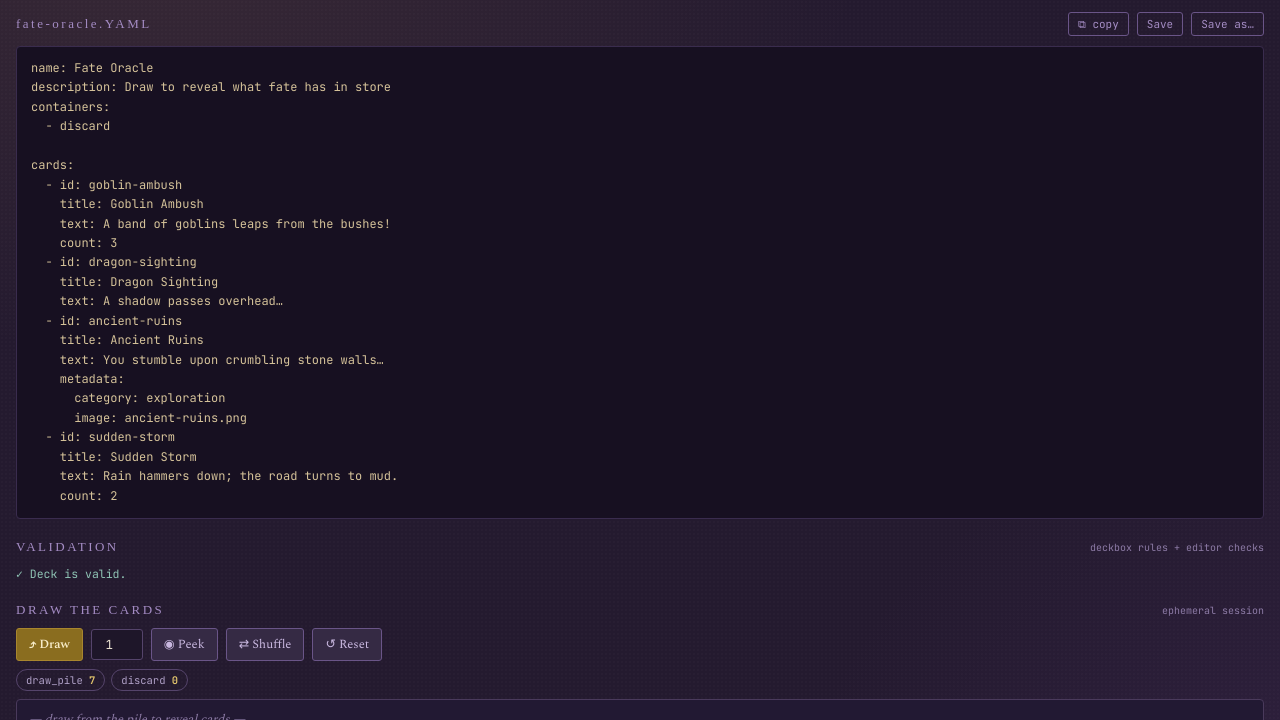
Test case: DRAW THE CARDS › draw with N=99 clamps to the remaining pile, empties it, disables Draw, and shows the hint
Replace the text in the number field with "99": (117, 645) [91,629,143,660]
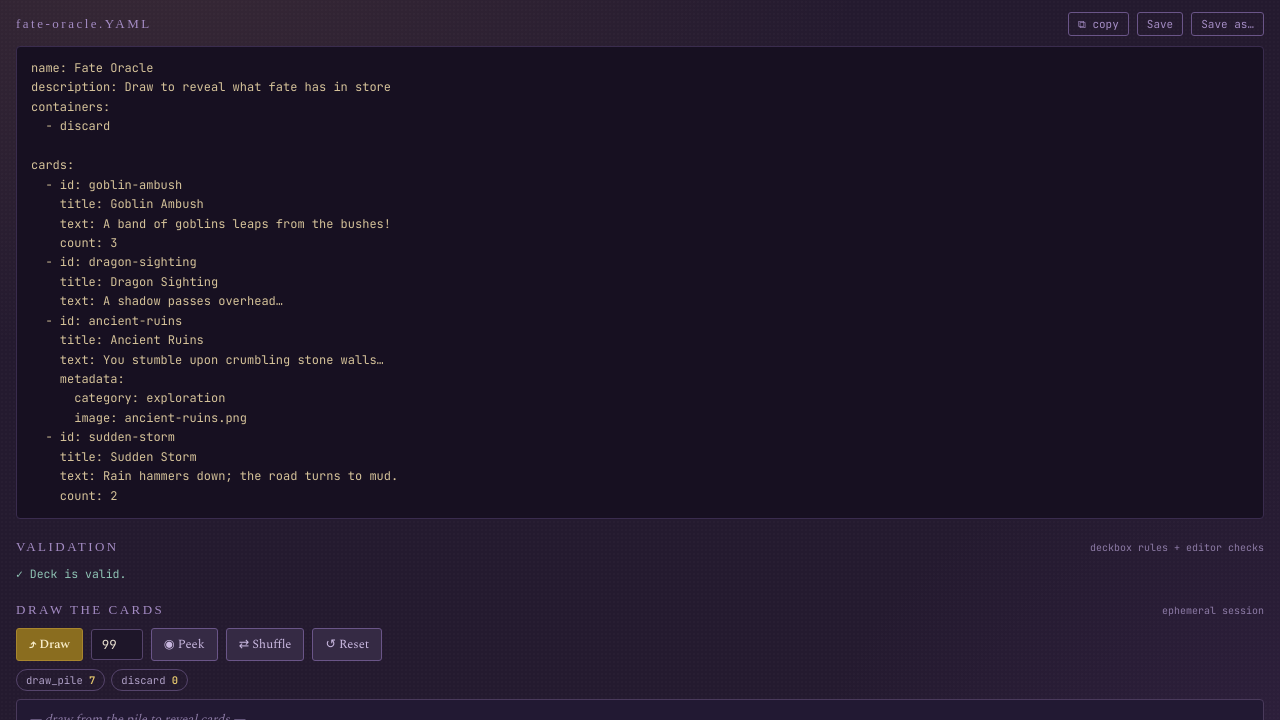
Click the button "⤴ Draw": click(49, 645) [16,628,83,661]
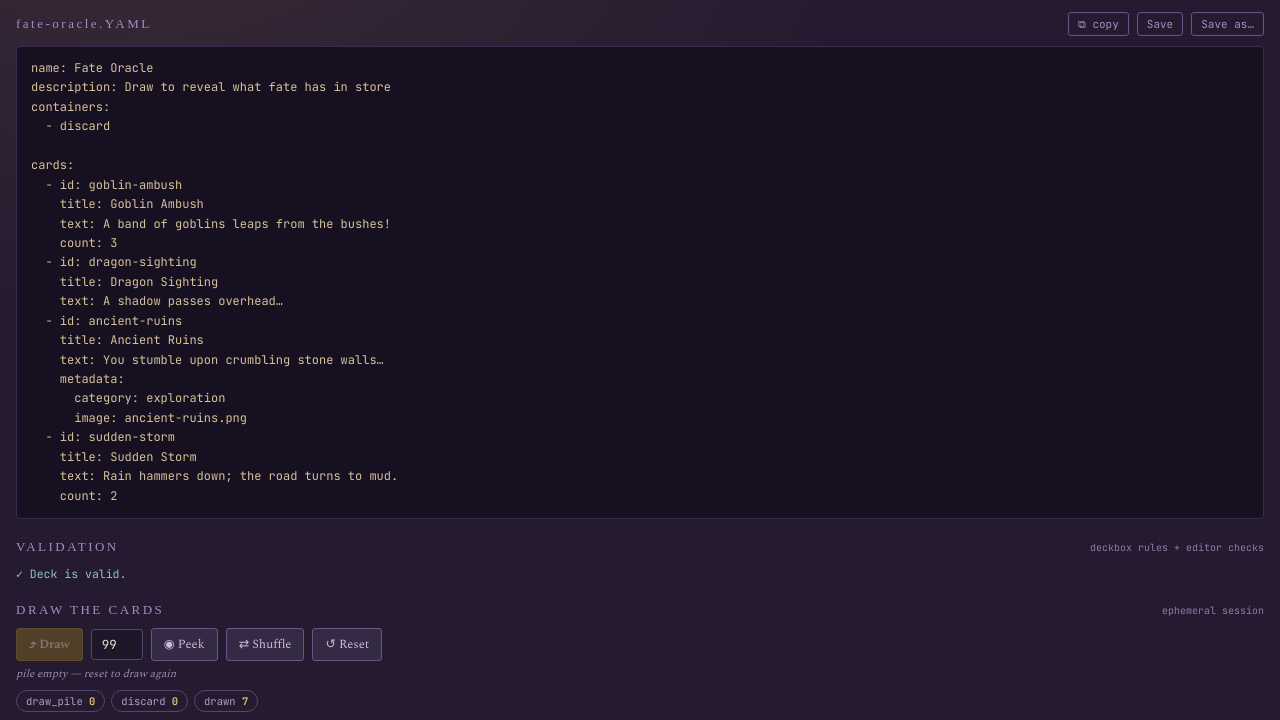
Result: the element with test id "pile-chip-draw_pile" reads "draw_pile 0" at [16,690,105,712]
Result: the element with test id "pile-chip-drawn" reads "drawn 7" at [194,690,258,712]
Result: the button "⤴ Draw" is disabled at [16,628,83,661]
